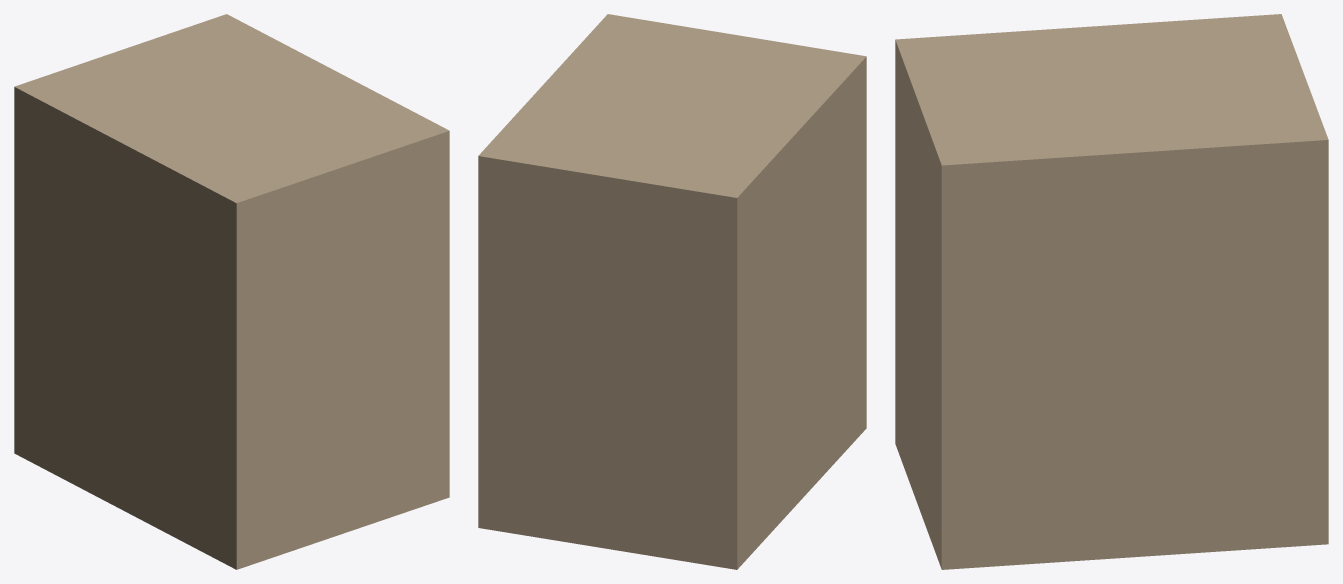
File: bld_393483734.dae
3 views of the same model, side by side, from view 1: azimuth 30°, elevation 25°; view 2: azimuth 150°, elevation 25°; view 3: azimuth 270°, elevation 25° (orthographic). The views are drawn at different scales.
Parts seen in each view (by area): view 1: bld_393483734; view 2: bld_393483734; view 3: bld_393483734.
Boxes of the visible parts, x1,y1,x2,y2 form: bld_393483734: [14, 14, 449, 569]; bld_393483734: [478, 14, 866, 569]; bld_393483734: [895, 14, 1328, 569].
Size of the model in its own units: 6.43 by 7.77 by 8.
